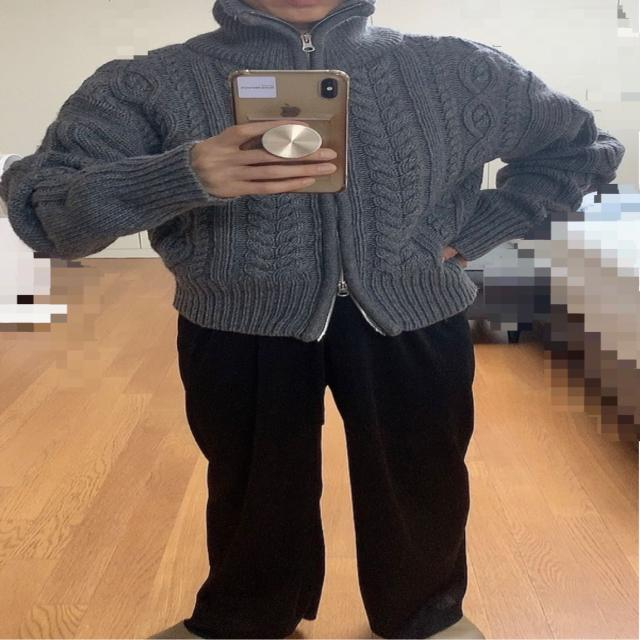cardigan: (0, 0, 622, 343)
trainingpants: (174, 282, 479, 640)
